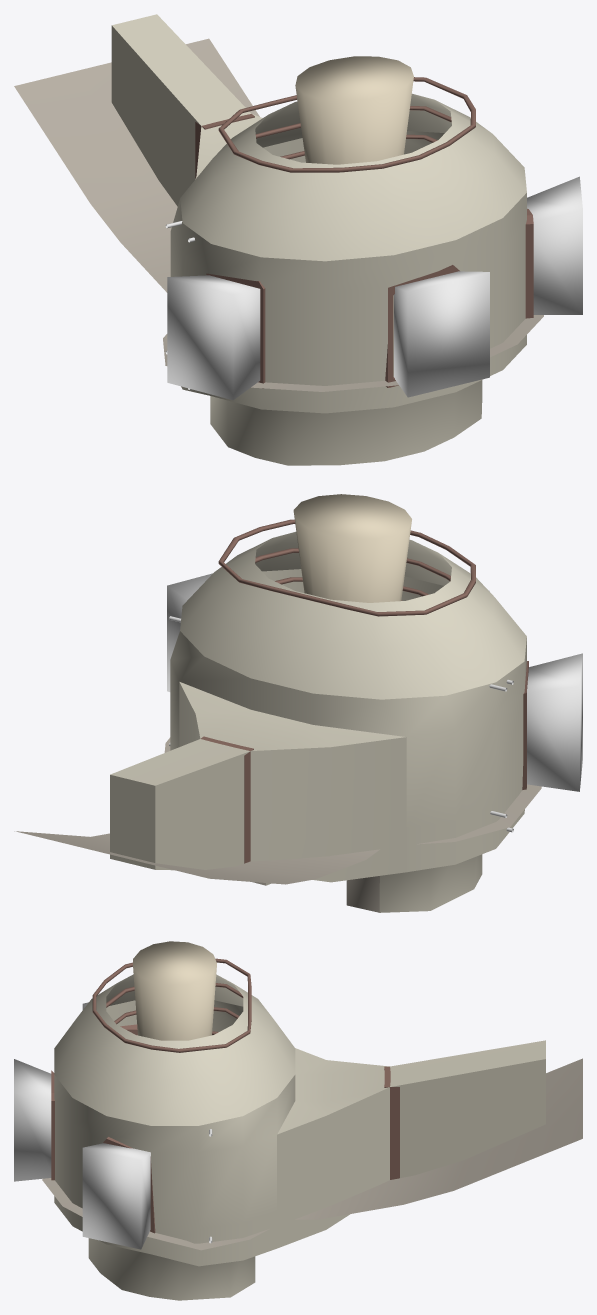
File: main hub.fbx
The picture shows the model from 3 angles, top to bottom: view 1: azimuth 30°, elevation 25°; view 2: azimuth 150°, elevation 25°; view 3: azimuth 270°, elevation 25°; orthographic projection. The views are drawn at different scales.
Parts seen in each view (by area): view 1: väggar, golv, tuben_bas, räcke, dörr, dörr.002, dörr.001; view 2: väggar, tuben_bas, golv, räcke, väggar.001; view 3: väggar, golv, tuben_bas, räcke, väggar.001.
Part boxes in pixels (x1,y1,x2,y2): väggar: (111,14,582,413); golv: (14,38,543,465); tuben_bas: (295,56,413,164); räcke: (218,77,475,172); dörr: (385,265,459,387); dörr.002: (525,208,533,318); dörr.001: (206,273,265,388); väggar: (110,531,582,882); tuben_bas: (293,494,411,602); golv: (14,737,541,912); räcke: (218,519,475,616); väggar.001: (201,736,253,863); väggar: (14,974,545,1266); golv: (42,1058,582,1300); tuben_bas: (133,941,216,1040); räcke: (92,958,251,1052); väggar.001: (384,1066,399,1179).
Bounding box in the file's own units: 1654 × 1317 × 2342.
